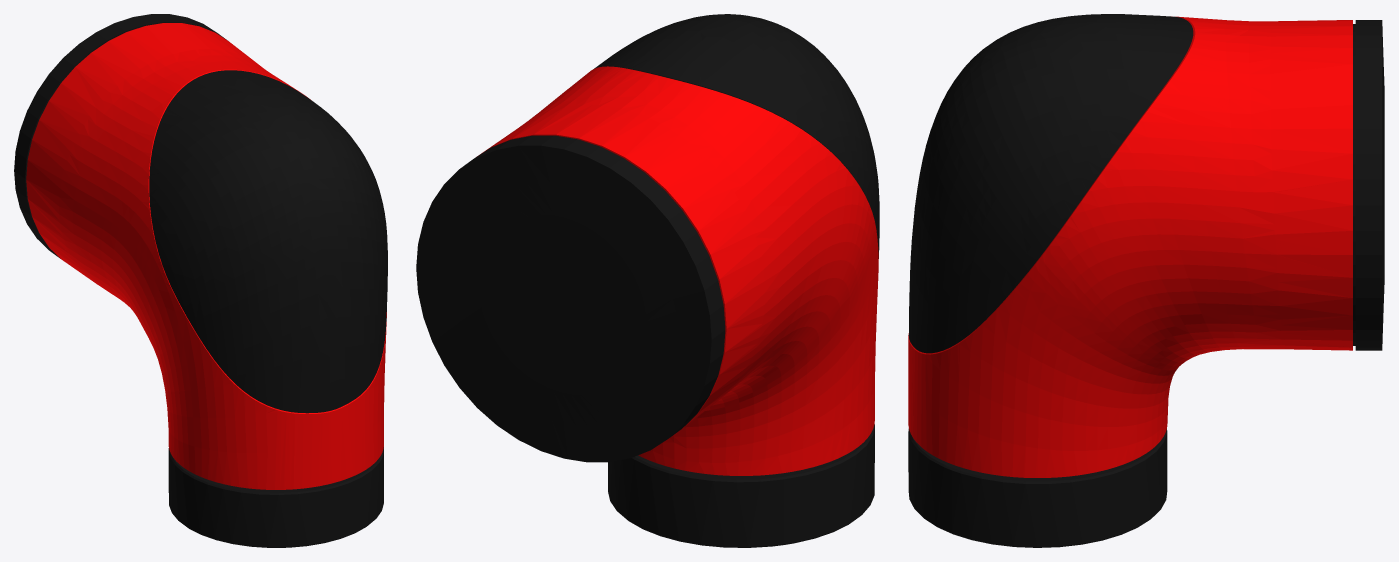
File: right_l1_visuals_mesh_0.obj
3 views of the same model, side by side, from view 1: azimuth 30°, elevation 25°; view 2: azimuth 150°, elevation 25°; view 3: azimuth 270°, elevation 25° (orthographic). The views are drawn at different scales.
Bounding box in the file's own units: 0.136 × 0.2115 × 0.1958.
